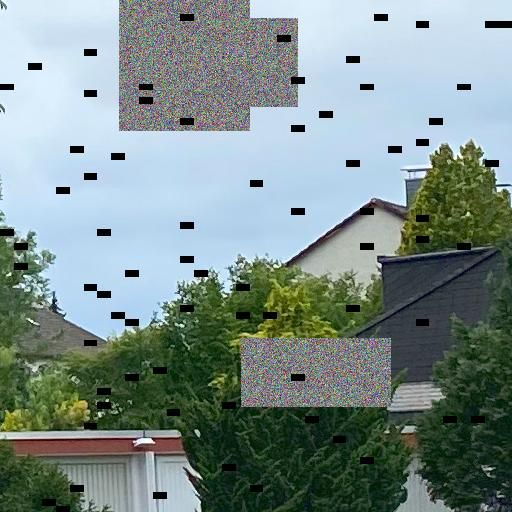tree: (65, 255, 378, 432), (417, 227, 511, 511), (1, 175, 56, 426), (394, 142, 511, 259)
